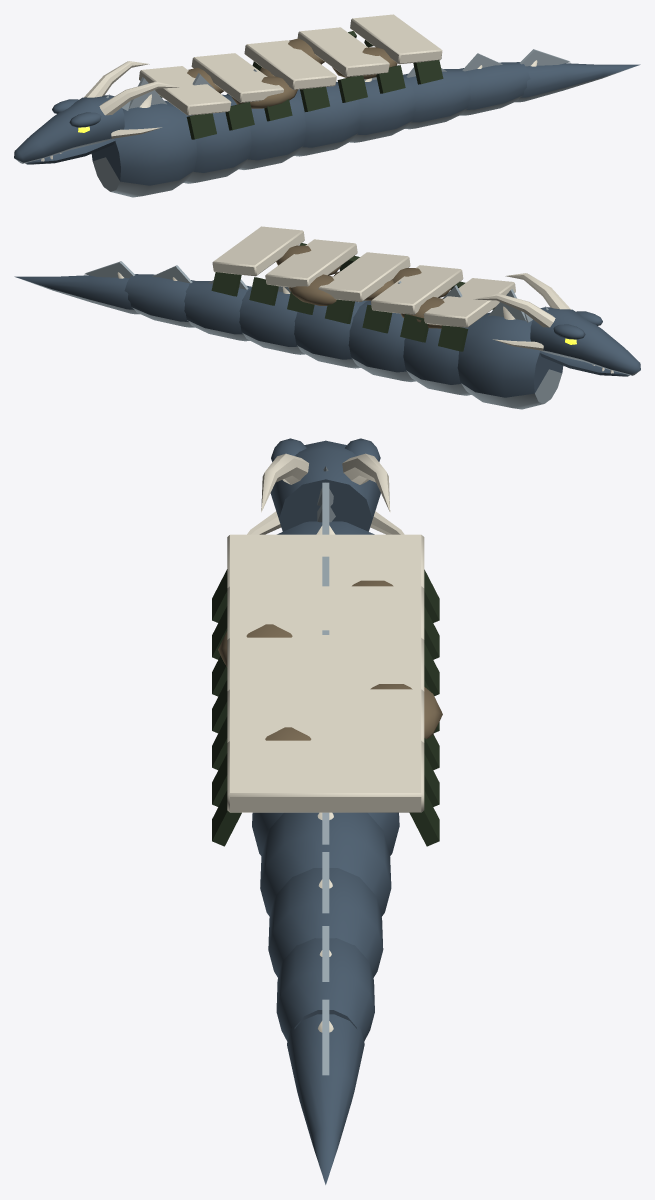
Rendered from wyrm.glb.
3 views of the same model, one above another, from view 1: azimuth 30°, elevation 25°; view 2: azimuth 150°, elevation 25°; view 3: azimuth 270°, elevation 25° (orthographic). The views are drawn at different scales.
Visible parts, largest first — view 1: armorMelee, seg0, head, armorRanged, seg1, seg6, seg2, seg7, seg3, seg5, seg4, armorFire (+1 smaller); view 2: armorMelee, seg0, head, armorRanged, seg2, seg6, seg7, seg1, seg4, seg5, seg3, armorFire (+1 smaller); view 3: armorMelee, head, seg4, seg5, seg7, armorRanged, seg6, armorFire, seg3, seg0.
Part boxes in pixels (x1,y1,x2,y2): armorMelee: [139, 14, 442, 115]; seg0: [91, 77, 197, 197]; head: [14, 61, 181, 163]; armorRanged: [160, 31, 443, 139]; seg1: [183, 73, 251, 183]; seg6: [460, 53, 530, 115]; seg2: [226, 69, 306, 169]; seg7: [515, 49, 640, 102]; seg3: [294, 82, 360, 156]; seg5: [403, 67, 470, 129]; seg4: [349, 76, 415, 142]; armorFire: [187, 38, 397, 108]; armorMelee: [212, 226, 515, 327]; seg0: [457, 289, 563, 409]; head: [473, 273, 640, 375]; armorRanged: [211, 243, 494, 351]; seg2: [348, 281, 415, 381]; seg6: [124, 265, 194, 327]; seg7: [14, 261, 139, 314]; seg1: [403, 285, 471, 395]; seg4: [239, 286, 305, 354]; seg5: [184, 279, 251, 341]; seg3: [294, 300, 370, 368]; armorFire: [276, 245, 451, 328]; armorMelee: [227, 534, 424, 812]; head: [247, 438, 404, 534]; seg4: [260, 812, 391, 916]; seg5: [268, 852, 383, 977]; seg7: [287, 999, 364, 1184]; armorRanged: [212, 569, 439, 846]; seg6: [276, 926, 374, 1041]; armorFire: [218, 580, 442, 740]; seg3: [252, 812, 399, 855]; seg0: [277, 482, 374, 534].
Bounding box in the file's own units: 6.18 × 1.14 × 0.9855.
